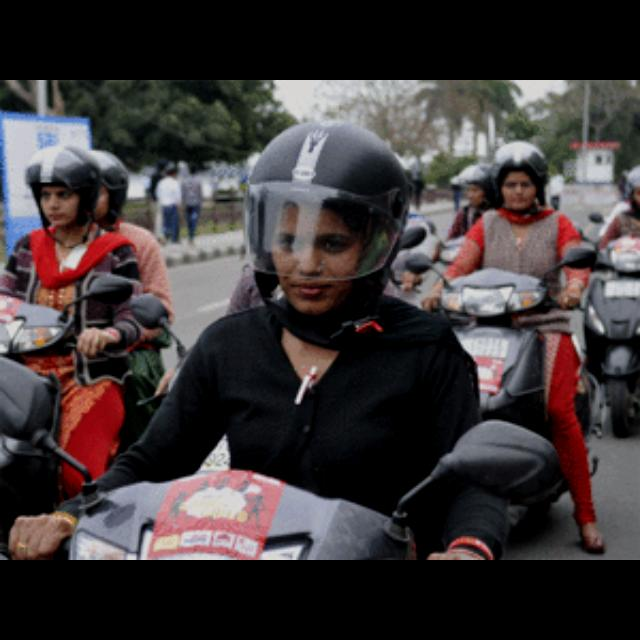With Helmet: (235, 104, 408, 318), (18, 136, 104, 238), (484, 136, 550, 214)
